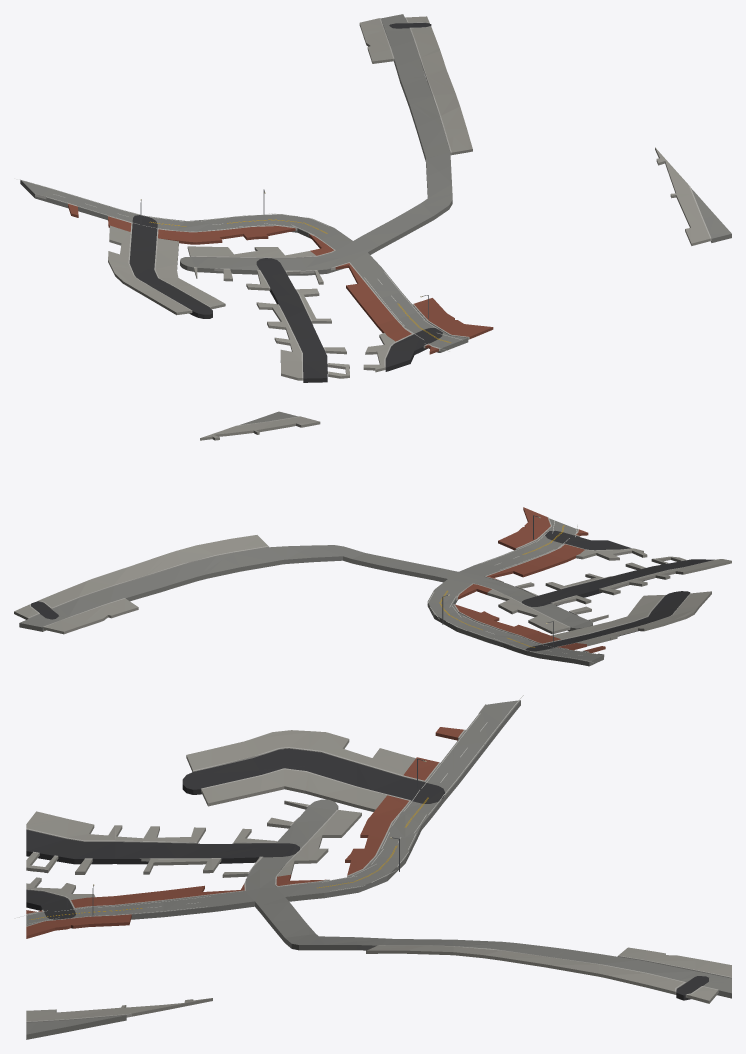
3 views of the same model, one above another, from view 1: azimuth 30°, elevation 25°; view 2: azimuth 150°, elevation 25°; view 3: azimuth 270°, elevation 25° (orthographic). The views are drawn at different scales.
Size of the model in its own units: 148 by 23.28 by 148.
